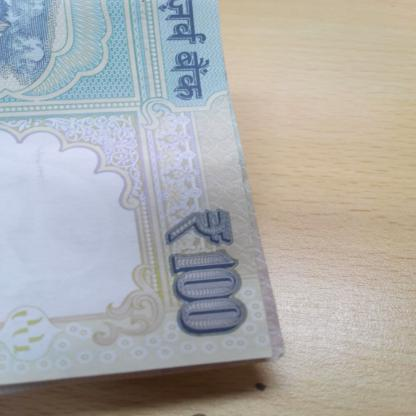Old100Back: (0, 0, 287, 398)
